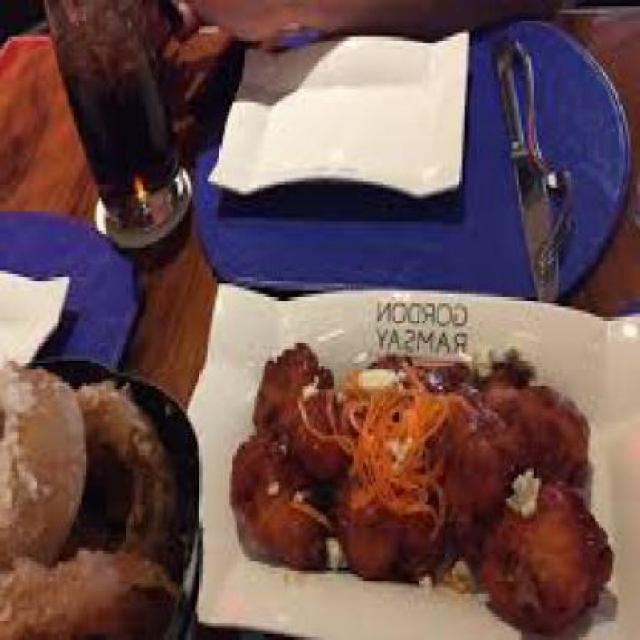chicken wings: (222, 343, 622, 620)
onion rings: (2, 343, 188, 637)
